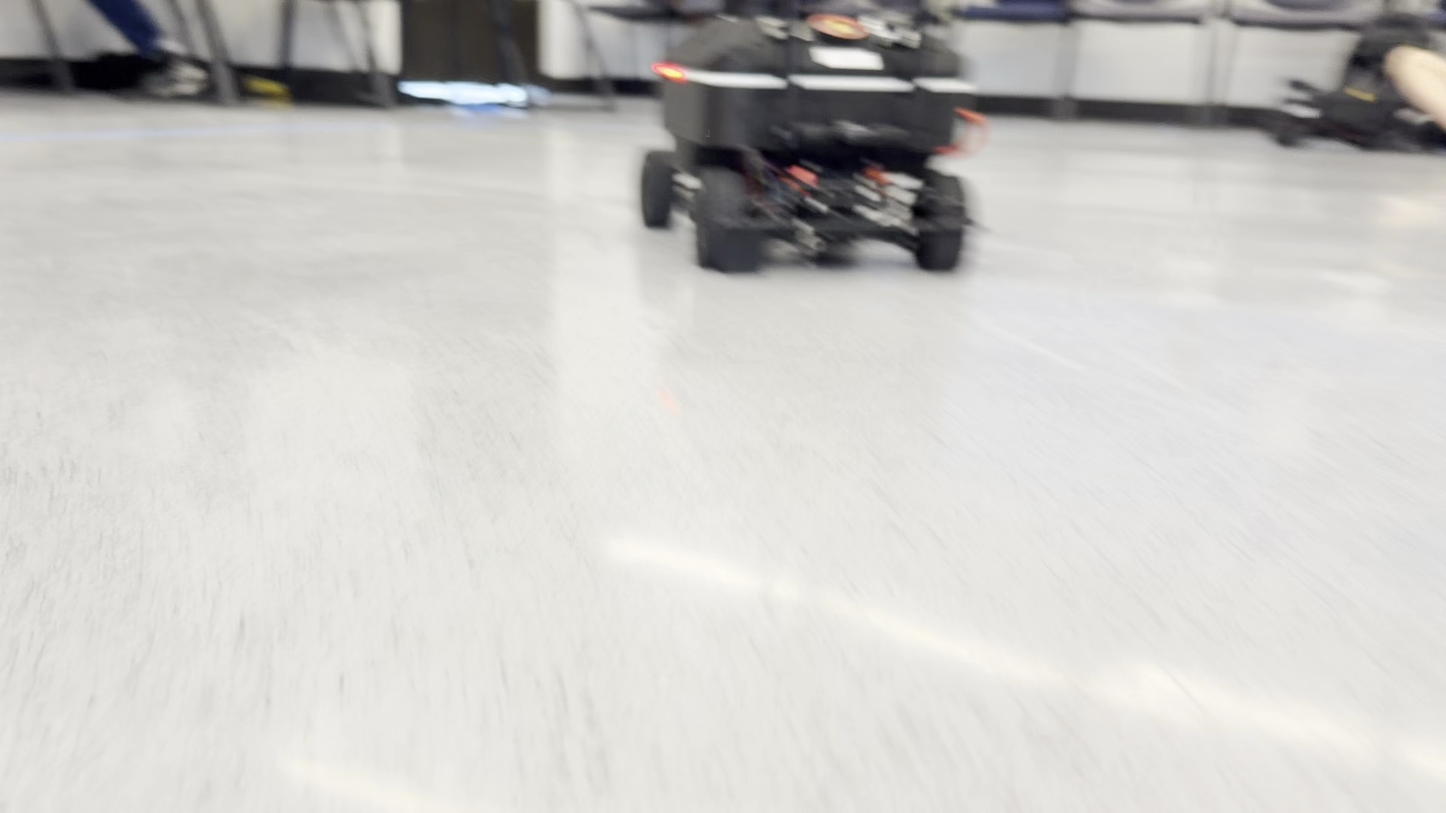racecar: (641, 14, 977, 275)
